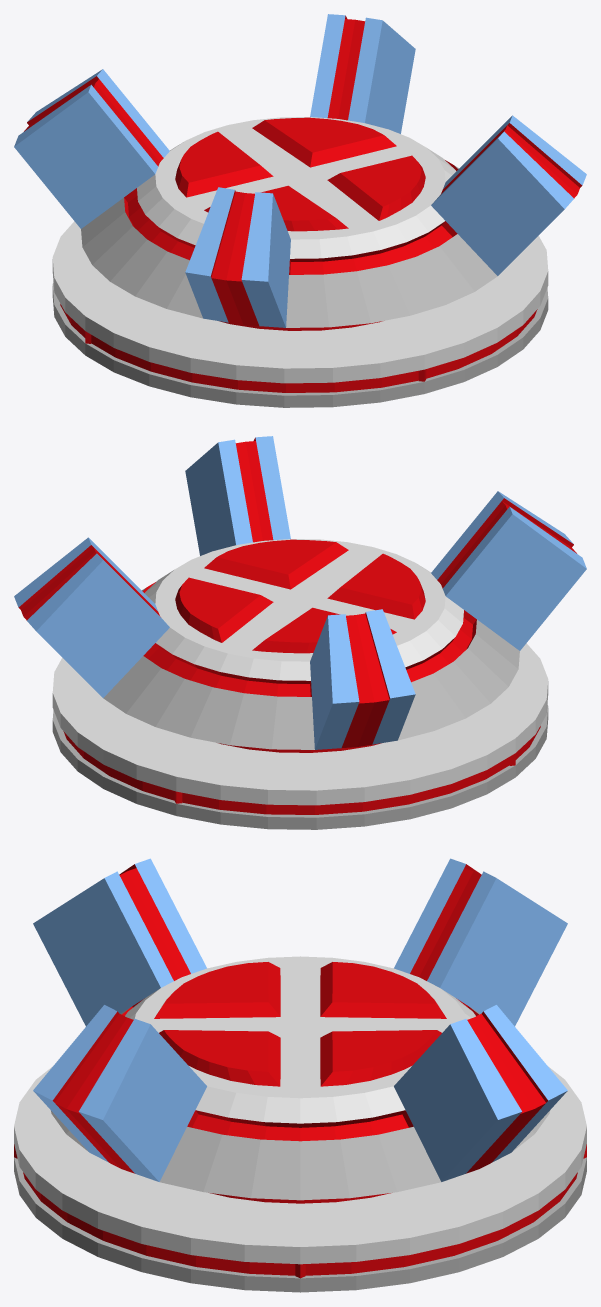
The model's file is hydrogen_platform.fbx.
The picture shows the model from 3 angles, top to bottom: view 1: azimuth 30°, elevation 25°; view 2: azimuth 150°, elevation 25°; view 3: azimuth 270°, elevation 25°; orthographic projection. The views are drawn at different scales.
Parts seen in each view (by area): view 1: Cylinder, Cylinder.001, Cylinder.003; view 2: Cylinder, Cylinder.001, Cylinder.003; view 3: Cylinder.001, Cylinder, Cylinder.003, Cylinder.002.
Boxes of the visible parts, left/top/right/bottom form: Cylinder: left=81, top=117, right=497, bottom=327; Cylinder.001: left=14, top=14, right=586, bottom=327; Cylinder.003: left=52, top=221, right=548, bottom=407; Cylinder: left=103, top=539, right=519, bottom=749; Cylinder.001: left=14, top=436, right=586, bottom=749; Cylinder.003: left=52, top=643, right=548, bottom=829; Cylinder.001: left=33, top=858, right=567, bottom=1181; Cylinder: left=51, top=956, right=549, bottom=1200; Cylinder.003: left=14, top=1066, right=586, bottom=1292; Cylinder.002: left=210, top=1193, right=390, bottom=1203.
Bounding box in the file's own units: 1581 × 700 × 1581.
